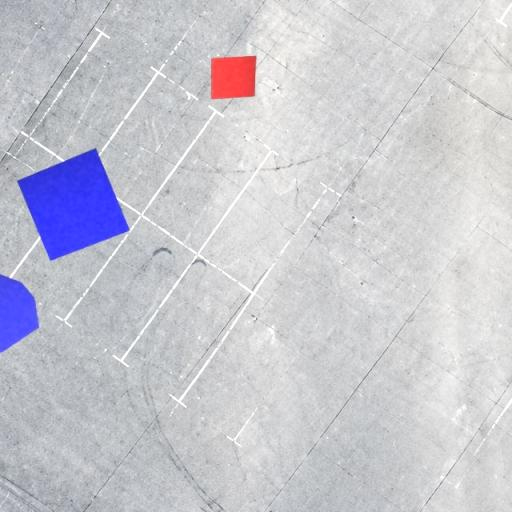BLUE_SQUARE: (17, 148, 130, 262)
RED_SQUARE: (210, 55, 257, 100)
